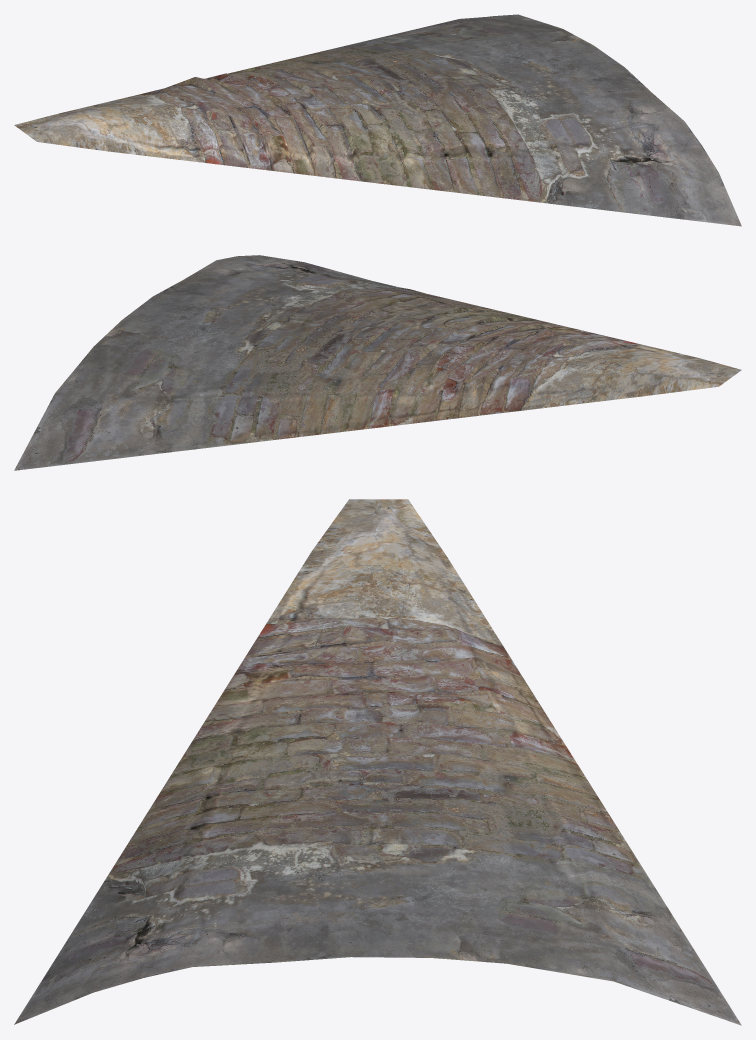
Rendered from sm_CryptCeiling_02_03.fbx.
The picture shows the model from 3 angles, top to bottom: view 1: azimuth 30°, elevation 25°; view 2: azimuth 150°, elevation 25°; view 3: azimuth 270°, elevation 25°; orthographic projection. The views are drawn at different scales.
Visible parts, largest first — view 1: sm_CryptCeiling_02_03_LOD0; view 2: sm_CryptCeiling_02_03_LOD0; view 3: sm_CryptCeiling_02_03_LOD0.
Part boxes in pixels (x1=…): sm_CryptCeiling_02_03_LOD0: x1=14, y1=14, x2=741, y2=226; sm_CryptCeiling_02_03_LOD0: x1=14, y1=255, x2=741, y2=470; sm_CryptCeiling_02_03_LOD0: x1=14, y1=499, x2=741, y2=1025.
Bounding box in the file's own units: 301 × 251 × 63.18.
